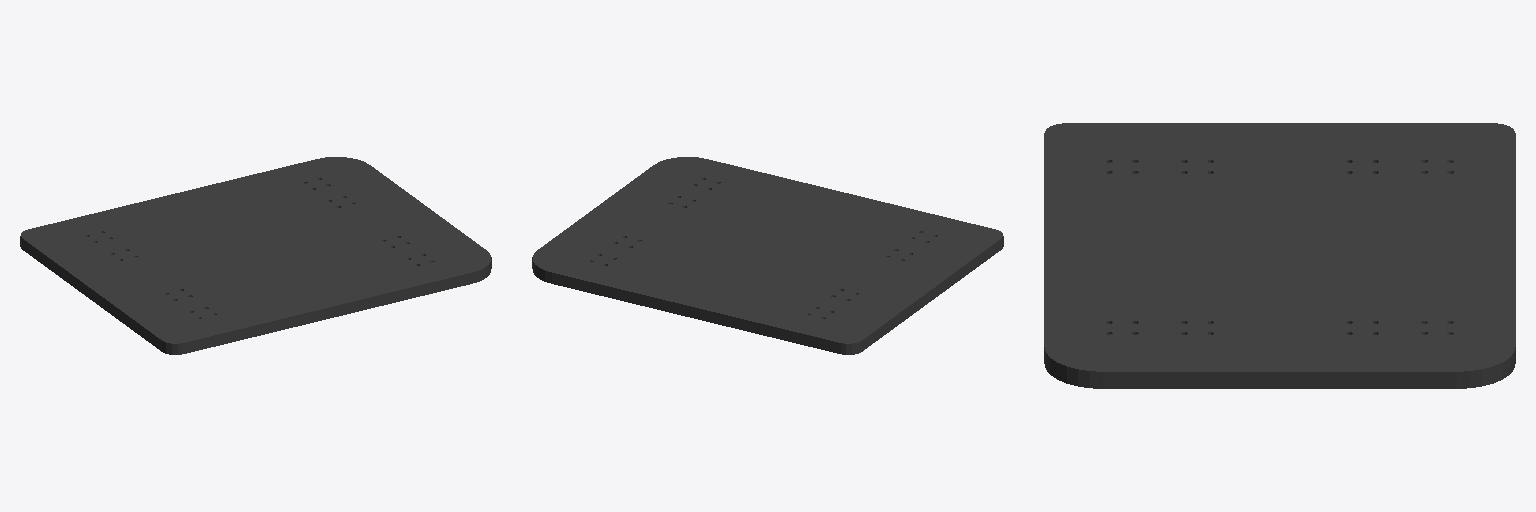
robot.urdf — Prototip_2:
<?xml version="1.0" encoding="utf-8"?>
<!-- This URDF was automatically created by SolidWorks to URDF Exporter! Originally created by [author] ([email redacted]) 
     Commit Version: 1.6.0-1-g15f4949  Build Version: 1.6.7594.29634
     For more information, please see http://wiki.ros.org/sw_urdf_exporter -->
<robot
  name="Prototip_2">
  <link
    name="base_link">
    <inertial>
      <origin
        xyz="-0.0471670523910664 -0.0197604058221659 -0.0654037079552958"
        rpy="0 0 0" />
      <mass
        value="13.3378755858745" />
      <inertia
        ixx="0.150554563252917"
        ixy="-8.12302956763604E-07"
        ixz="0.00201914224517753"
        iyy="0.301207744197934"
        iyz="1.14850017665887E-07"
        izz="0.444571260359006" />
    </inertial>
    <visual>
      <origin
        xyz="0 0 0"
        rpy="0 0 0" />
      <geometry>
        <mesh
          filename="package://Prototip_2/meshes/base_link.STL" />
      </geometry>
      <material
        name="">
        <color
          rgba="0.298039215686275 0.298039215686275 0.298039215686275 1" />
      </material>
    </visual>
    <collision>
      <origin
        xyz="0 0 0"
        rpy="0 0 0" />
      <geometry>
        <mesh
          filename="package://Prototip_2/meshes/base_link.STL" />
      </geometry>
    </collision>
  </link>
</robot>

--- Render facts (derived) ---
The picture shows the robot from 3 angles, left to right: view 1: azimuth 30°, elevation 25°; view 2: azimuth 150°, elevation 25°; view 3: azimuth 270°, elevation 25°; orthographic projection.
Model Prototip_2 with 1 links and 0 joints (none), rooted at base_link, posed all joints at 0.
Visible links, largest first — view 1: base_link; view 2: base_link; view 3: base_link.
Boxes of the visible links, box(x1,y1,x2,y2) form: base_link: box(20, 157, 491, 354); base_link: box(532, 157, 1003, 354); base_link: box(1044, 123, 1515, 388).
Size in the robot's own frame: 0.5 by 0.4 by 0.0161 metres.
Meshes: 1 distinct files referenced, 1 mesh visuals loaded (1 binary STL).
